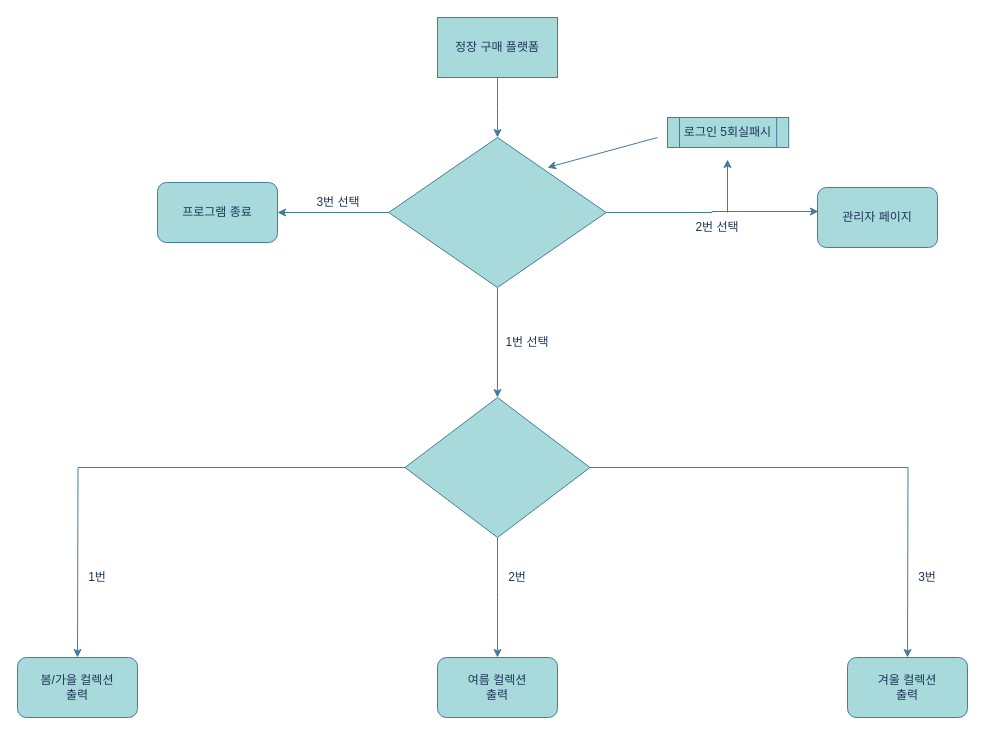
Image size: 985x735. Some labels were removed from this diagram. Each missing label, with the centre of its shape:
"*메인 메뉴* 1. 계절별 정장 선택 2. 관리자 3. 프로그램 종료" goes at point 497,212.
"계절별 컬렉션 1. 봄/가을 2. 여름 3. 겨울" goes at point 497,467.
